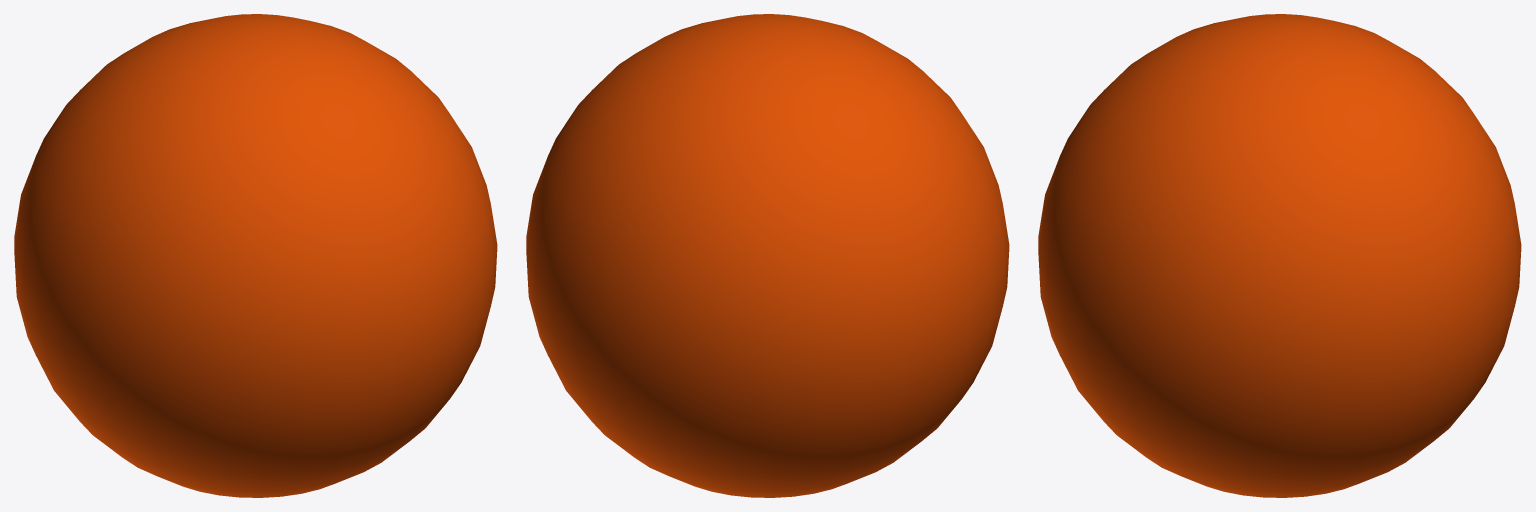
File: orange.fbx
3 views of the same model, side by side, from view 1: azimuth 30°, elevation 25°; view 2: azimuth 150°, elevation 25°; view 3: azimuth 270°, elevation 25° (orthographic).
Parts seen in each view (by area): view 1: Orange; view 2: Orange; view 3: Orange.
Boxes of the visible parts, bbox=[...] form: Orange: bbox=[14, 14, 497, 497]; Orange: bbox=[526, 14, 1009, 497]; Orange: bbox=[1038, 14, 1521, 497].
Size of the model in its own units: 53.28 by 53.41 by 53.22.
